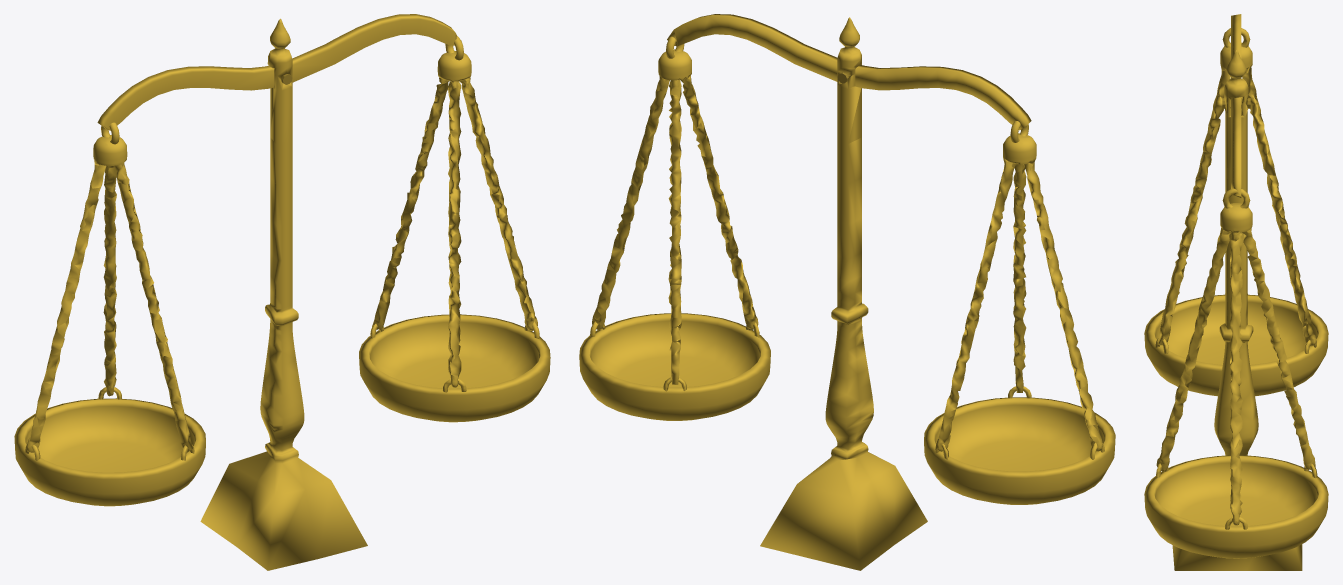
File: weight_balance.fbx
The picture shows the model from 3 angles, left to right: view 1: azimuth 30°, elevation 25°; view 2: azimuth 150°, elevation 25°; view 3: azimuth 270°, elevation 25°; orthographic projection. The views are drawn at different scales.
Visible parts, largest first — view 1: dx_ring.002, dx_ring.001, asta, arm; view 2: dx_ring.002, dx_ring.001, asta, arm; view 3: dx_ring.002, dx_ring.001, asta, arm.
Part boxes in pixels (bbox=[...]): dx_ring.002: bbox=[359, 36, 550, 422]; dx_ring.001: bbox=[14, 122, 205, 506]; asta: bbox=[200, 18, 367, 570]; arm: bbox=[97, 14, 461, 130]; dx_ring.002: bbox=[579, 36, 770, 420]; dx_ring.001: bbox=[924, 121, 1115, 504]; asta: bbox=[760, 17, 927, 570]; arm: bbox=[667, 14, 1031, 130]; dx_ring.002: bbox=[1144, 188, 1328, 558]; dx_ring.001: bbox=[1144, 28, 1328, 396]; asta: bbox=[1172, 50, 1302, 570]; arm: bbox=[1231, 14, 1241, 197].
Bounding box in the file's own units: 1550 × 1499 × 505.
